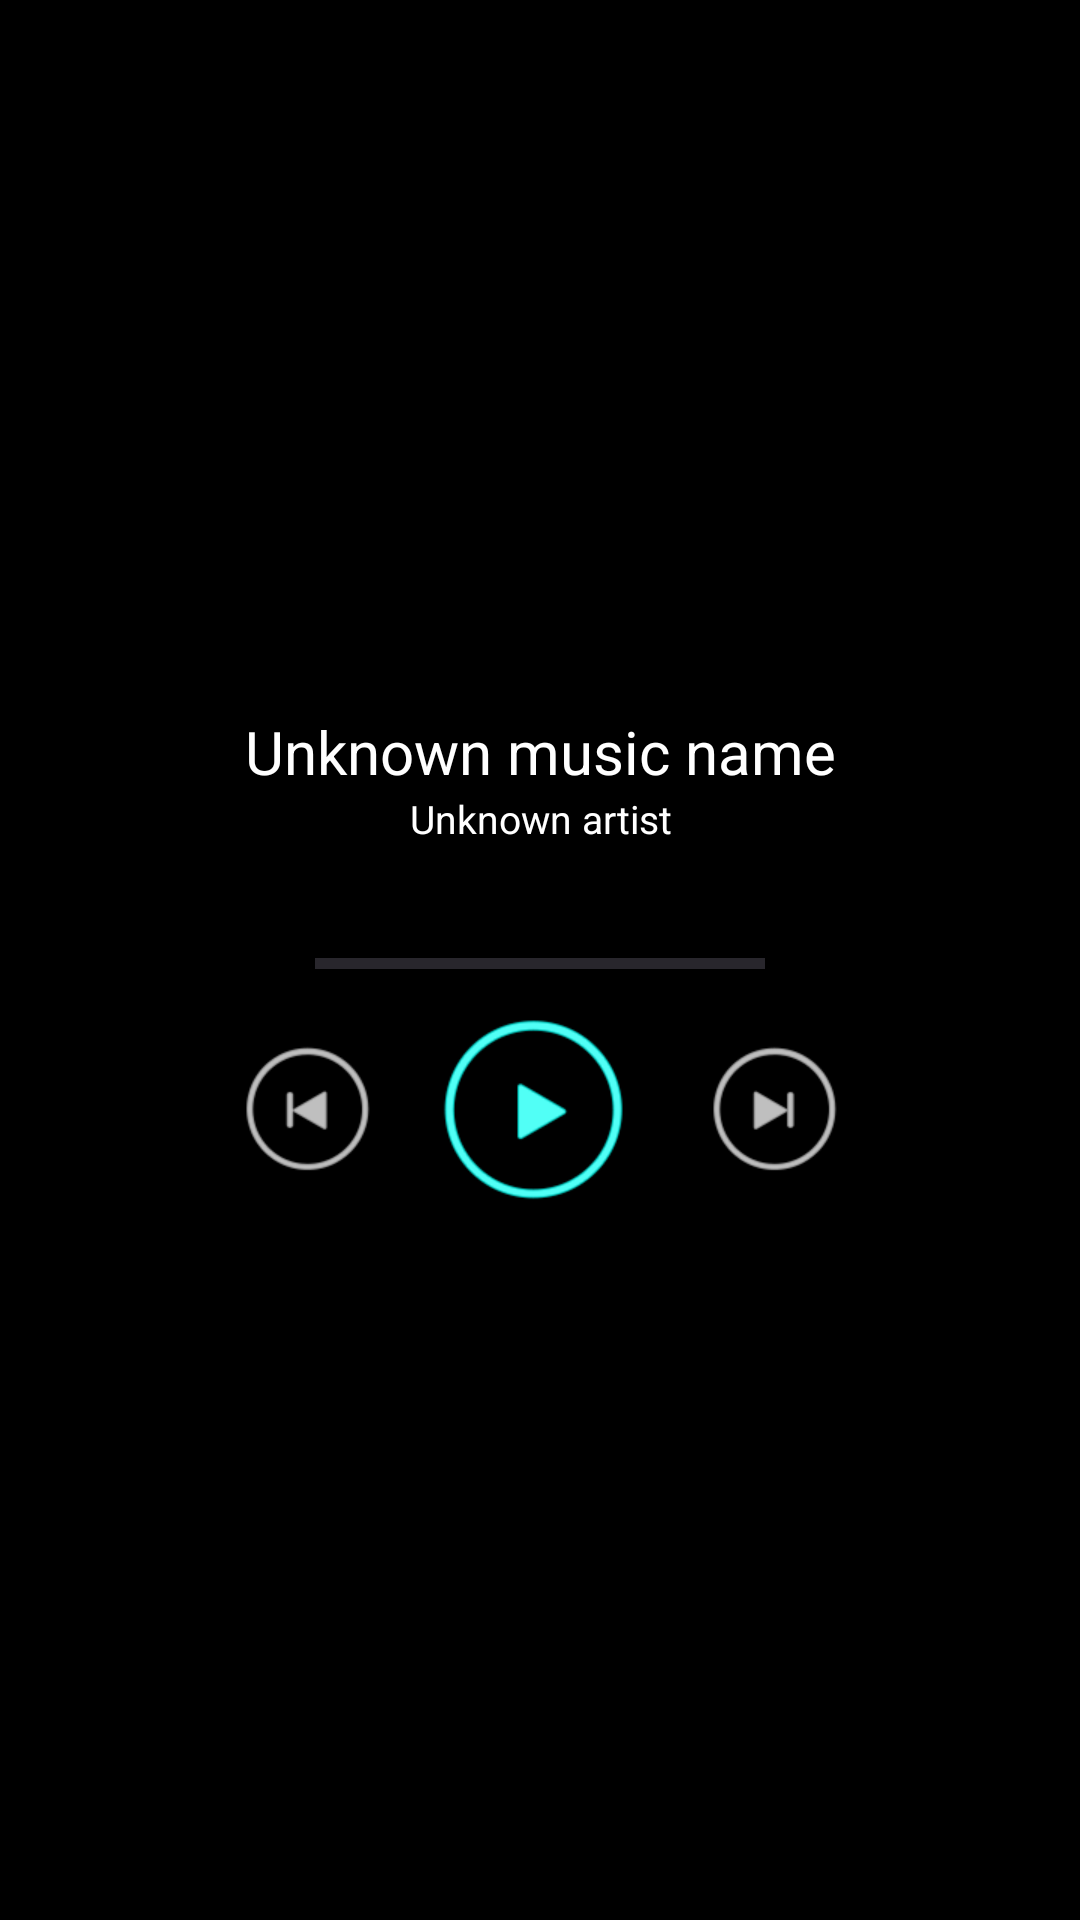

Named icons in this screenshot (1080 × 1920) and their centers, point (x, y):
next: point (774, 1109)
play: point (533, 1109)
prev: point (307, 1109)
